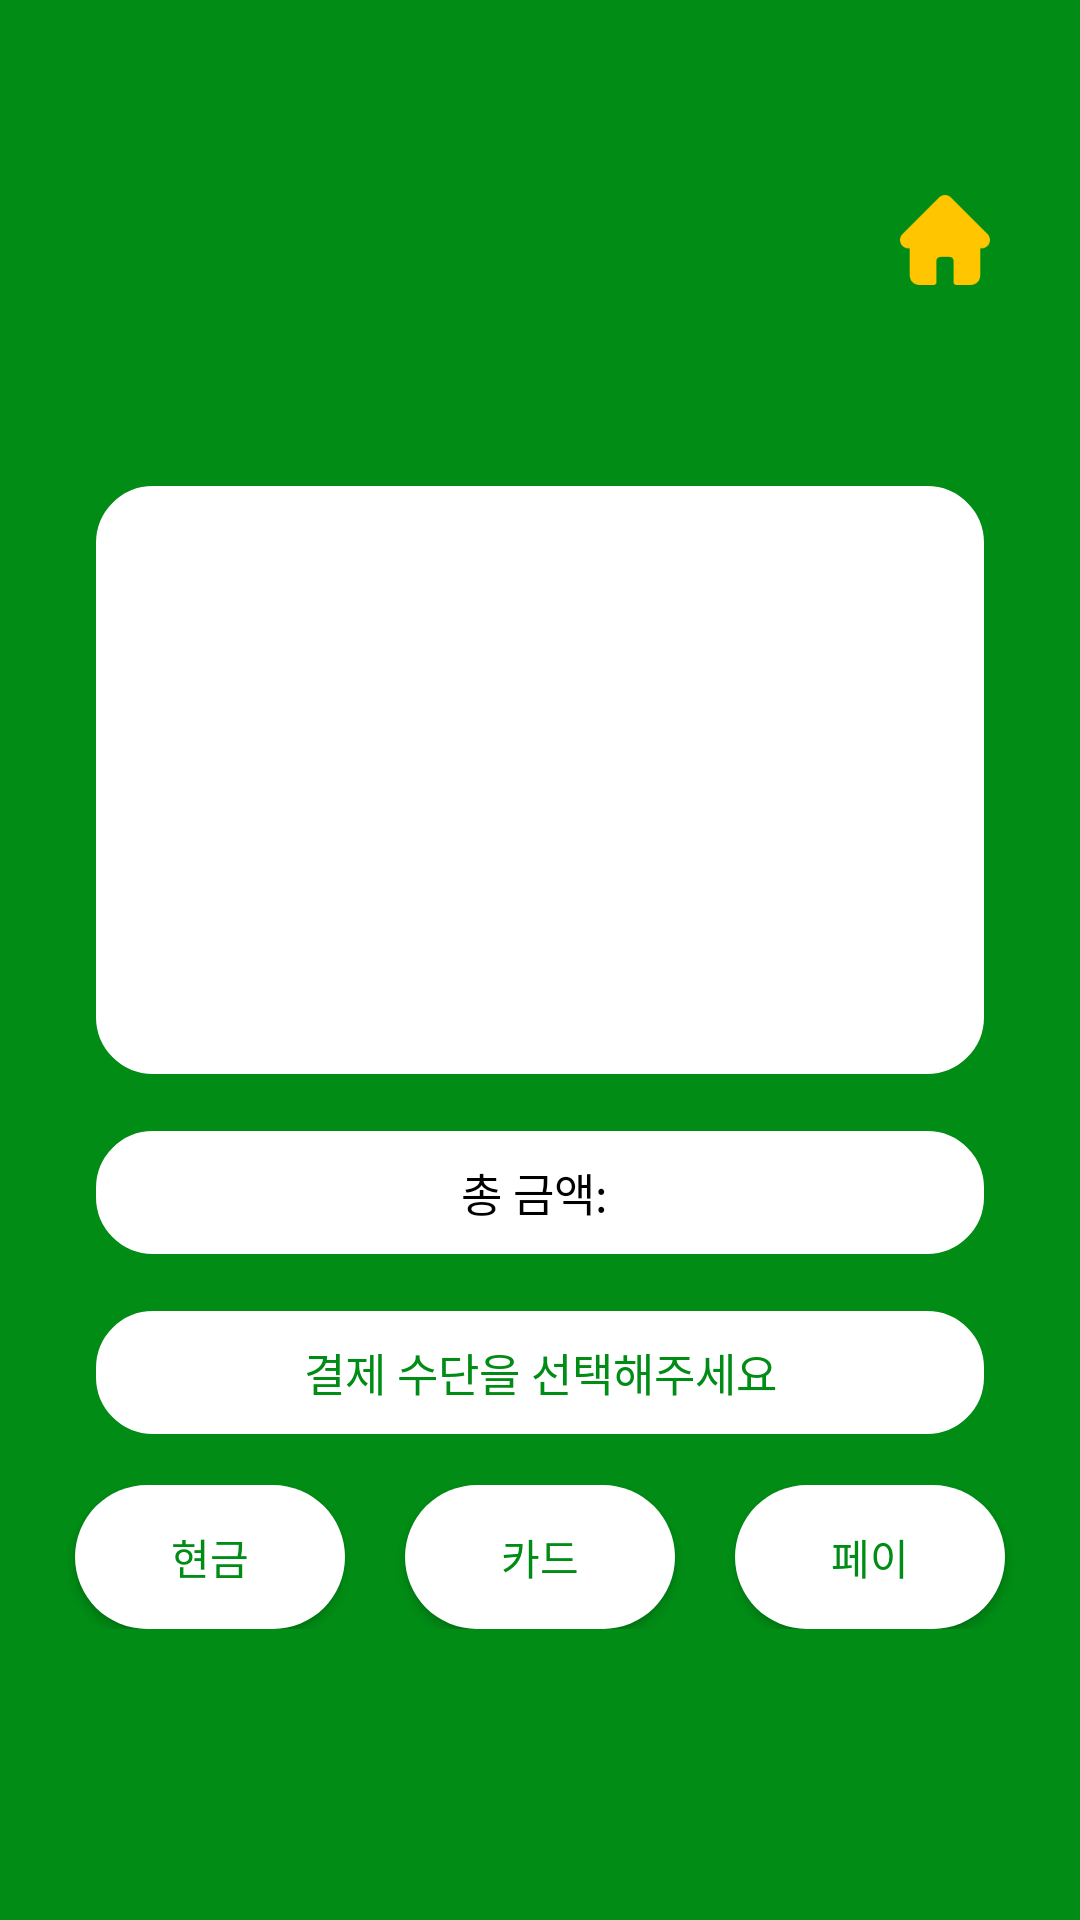

Icon click points for this 1080 x 1920 phone screenshot, format (x=x, y=y):
home: (x=945, y=240)
